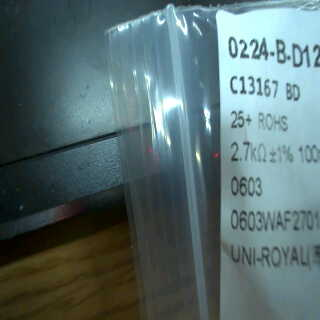2.7kR: (224, 135, 269, 168)
